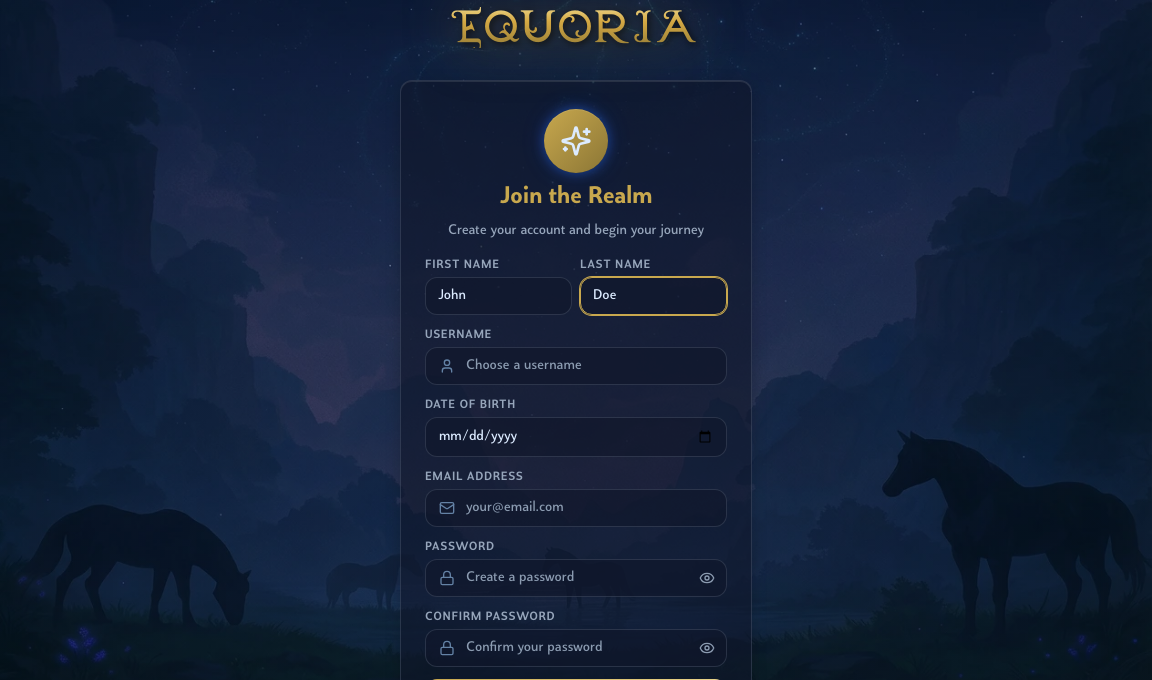
it: RegisterPage › AC-2: Client-Side Validation › shows error for invalid email format
Earlier steps of the test are not shown.
Type "johndoe" into the field labelled "Username" at x=576, y=366, box [425,347,727,385]
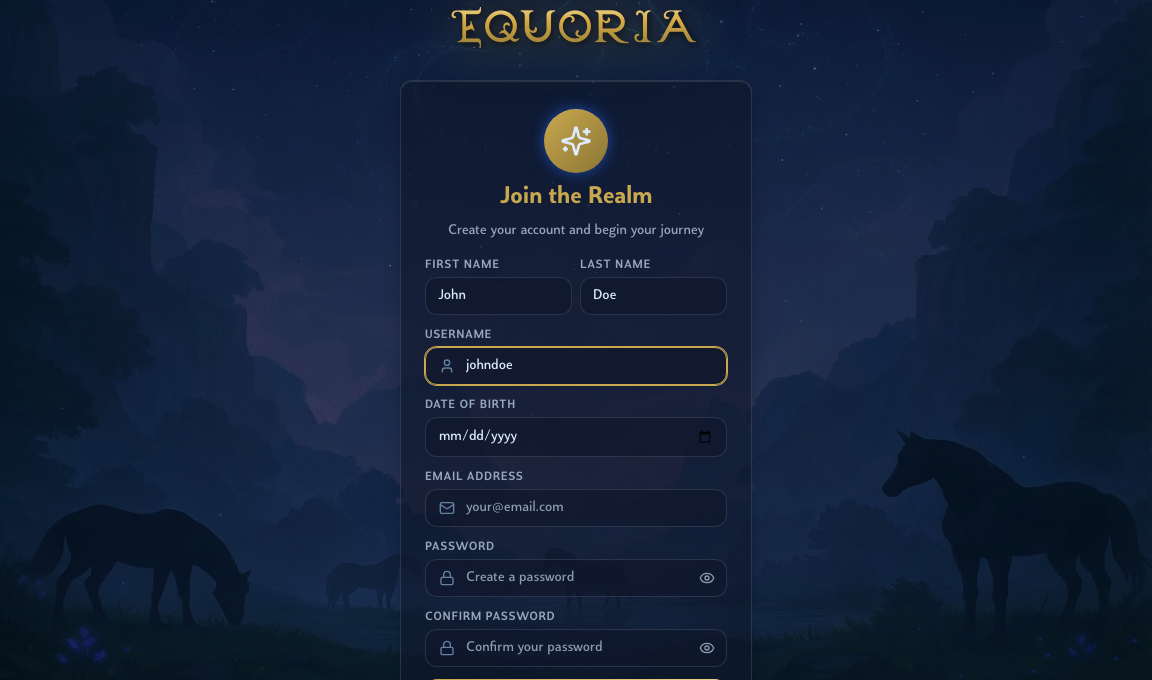
Type "invalid-email" into the field labelled "Email Address" at x=576, y=508, box [425,489,727,527]
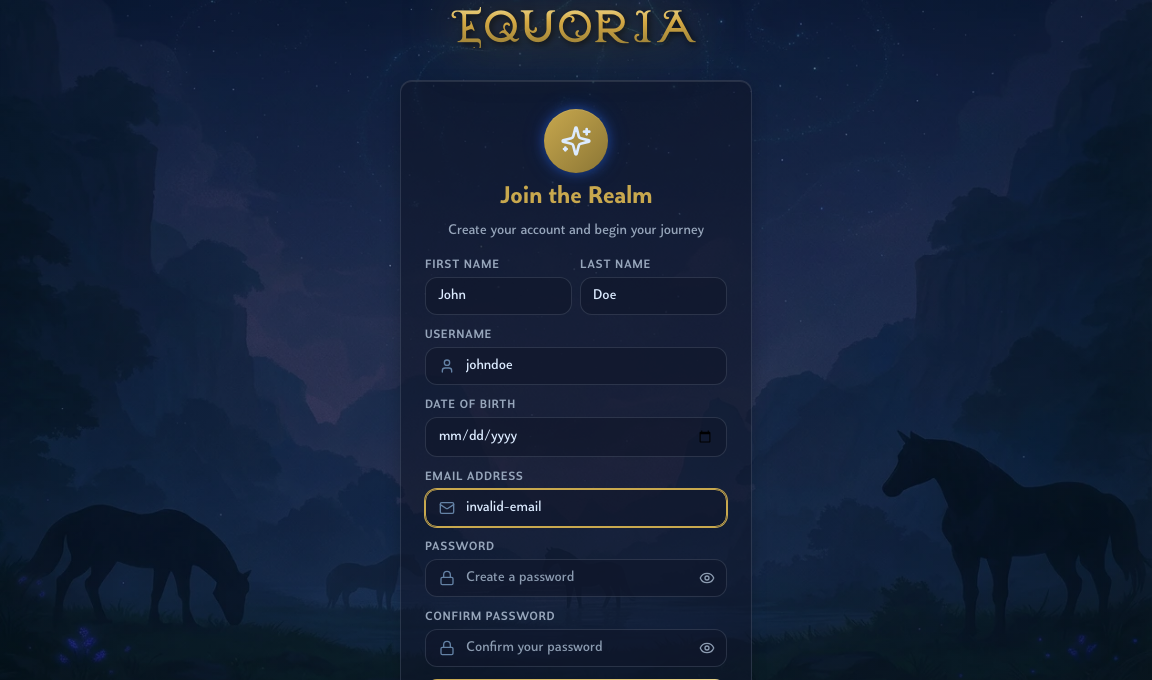
Type "SecurePass123@" into the password field labelled "Password" at x=576, y=578, box [425,559,727,597]
(page scrolled)
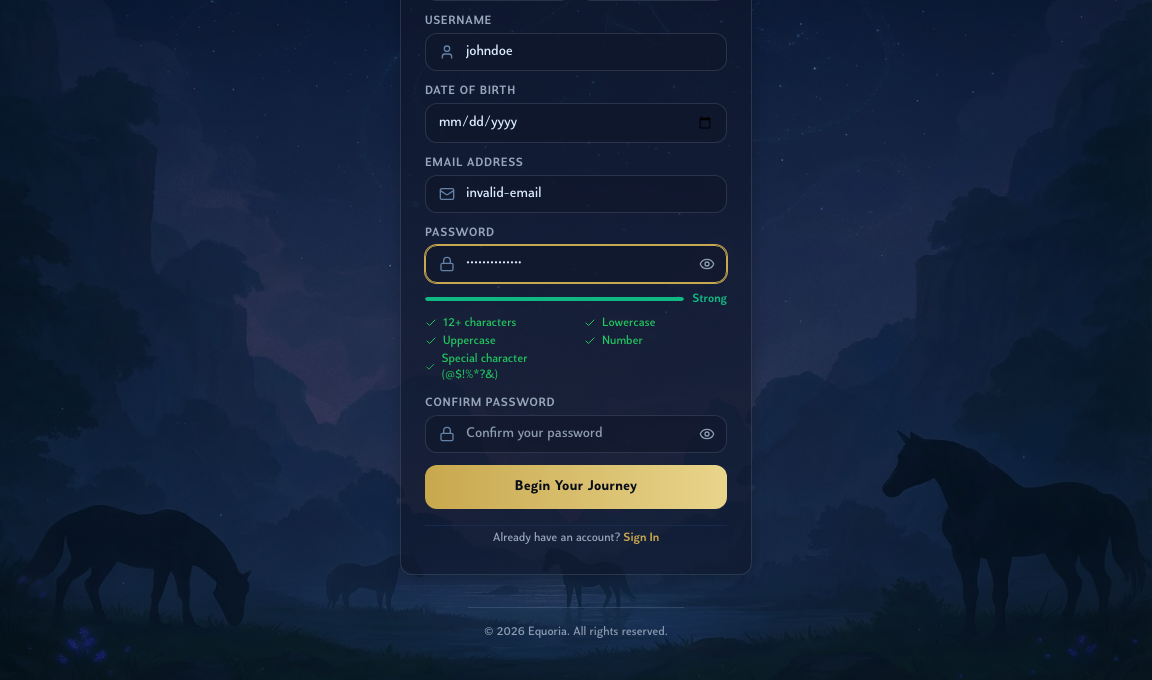
Type "SecurePass123@" into the password field labelled "Confirm Password" at x=576, y=434, box [425,415,727,453]
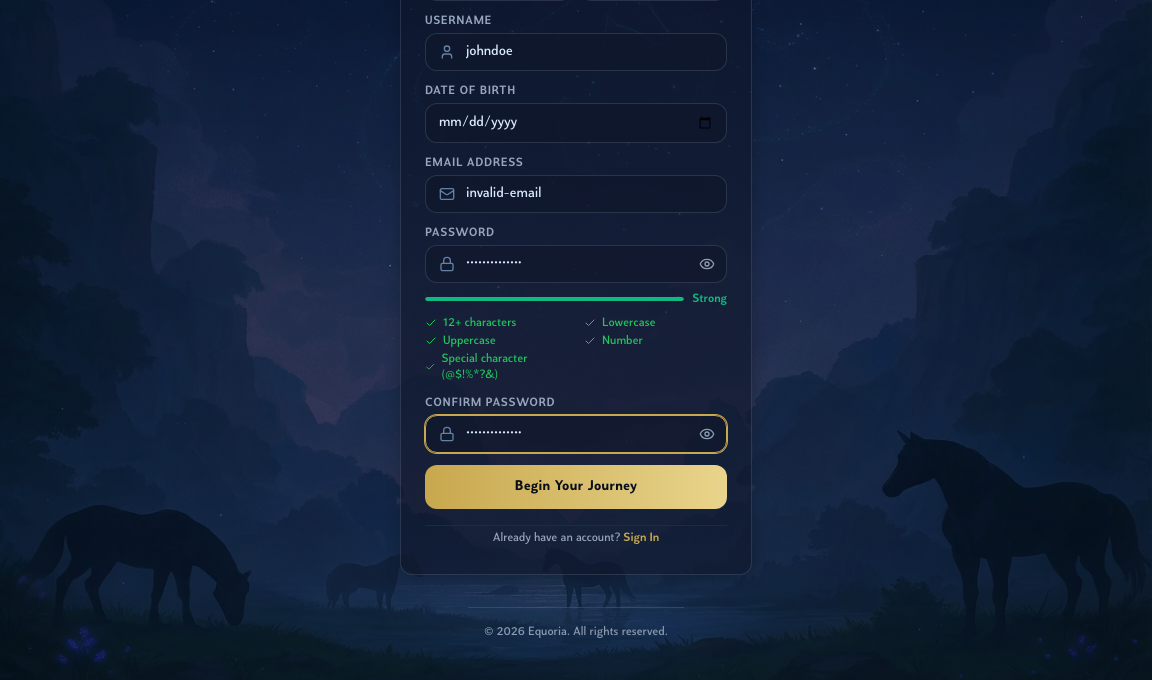
Type "1990-01-01" into the date field labelled "Date of Birth" at x=576, y=123, box [425,103,727,143]
(page scrolled)
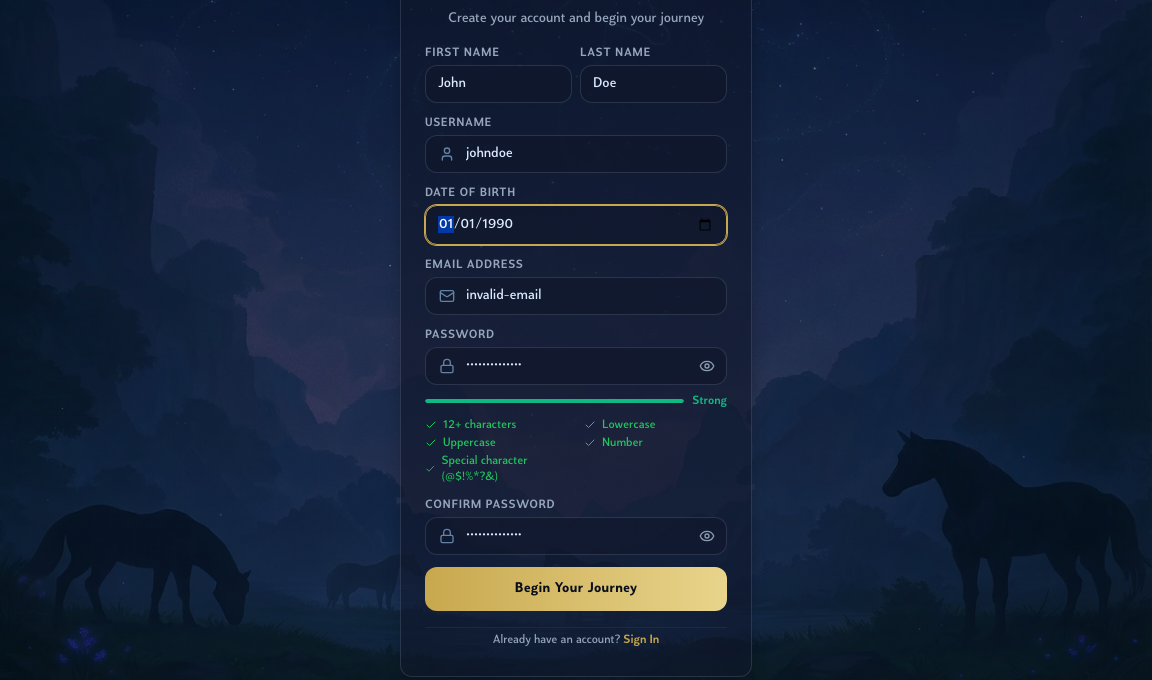
# Submit the form directly
Submit the form, box [425,45,727,611]
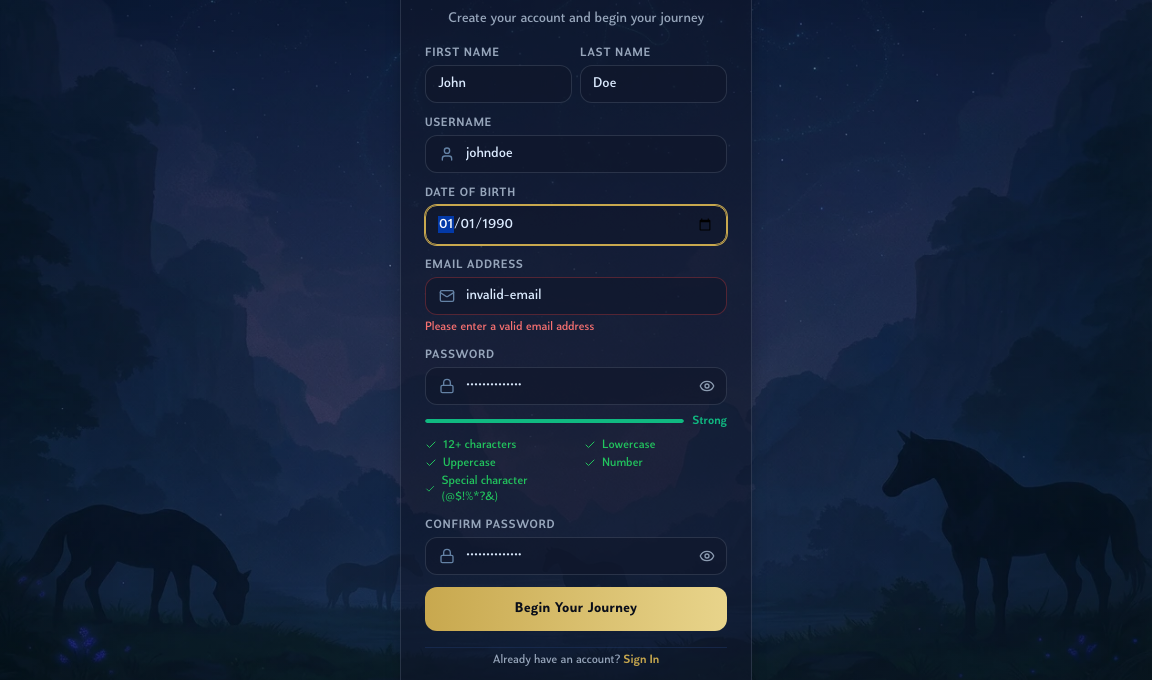
expect the text "Please enter a valid email address" is shown: met, box [425,321,594,333]
